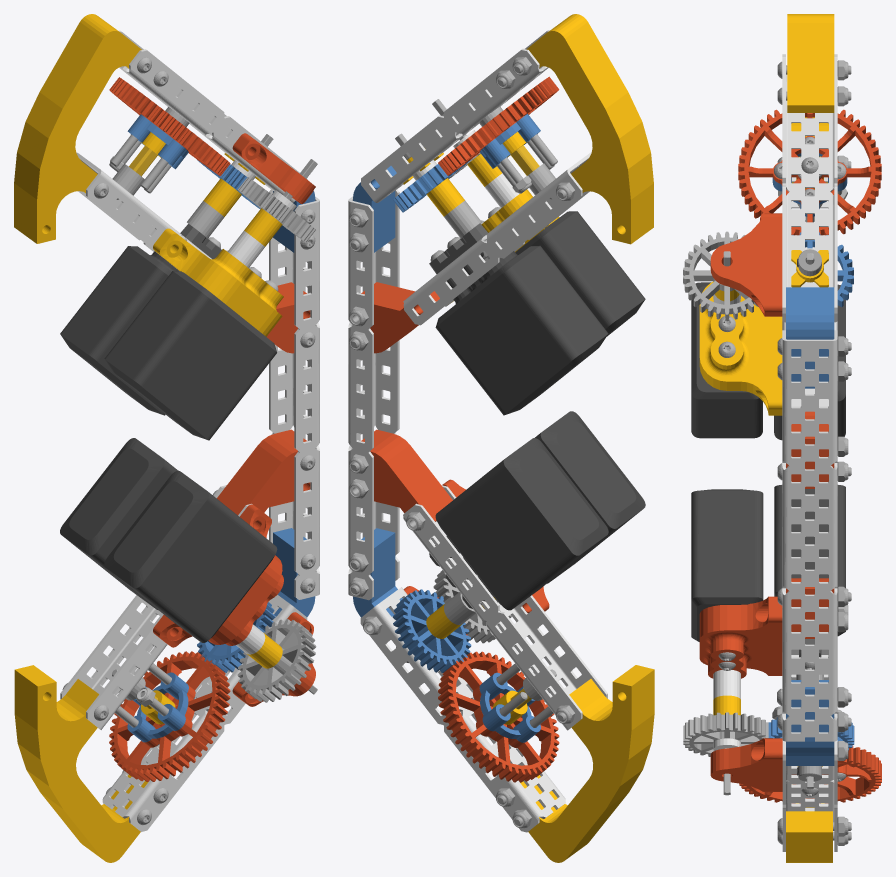
File: Pillow_Block_Bearing_276_2016_01.obj
3 renders of one model, left to right at view 1: azimuth 30°, elevation 25°; view 2: azimuth 150°, elevation 25°; view 3: azimuth 270°, elevation 25°, orthographic.
Bounding box in the file's own units: 0.1527 × 0.4292 × 0.0914.
